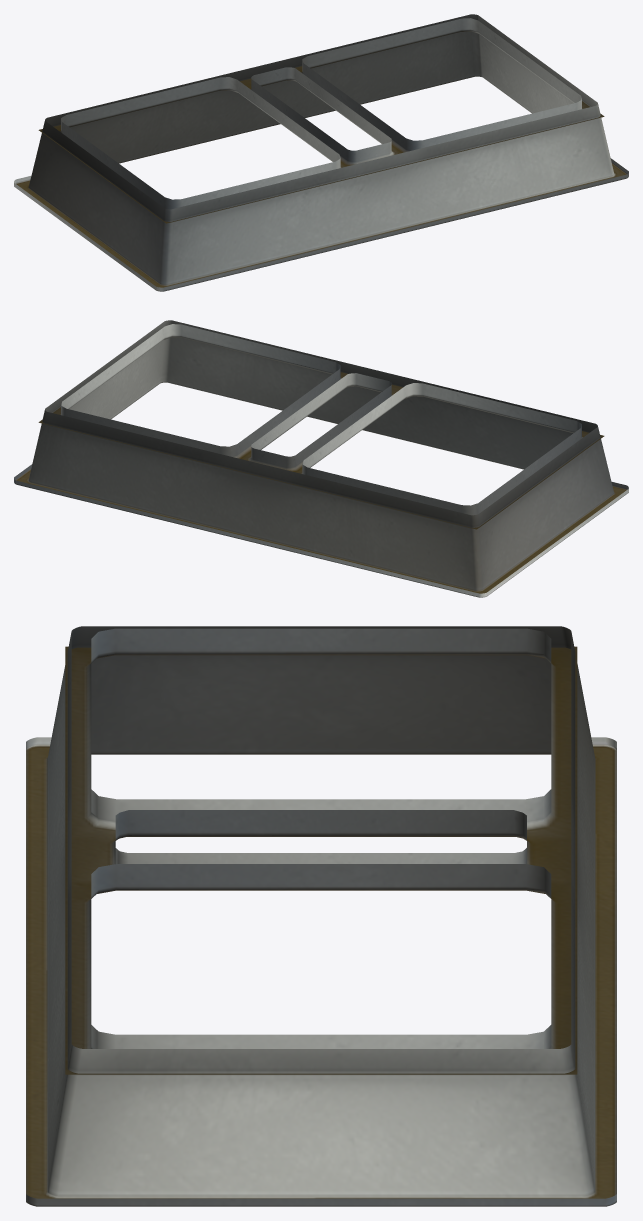
Rendered from Pico_04_R.fbx.
3 renders of one model, top to bottom at view 1: azimuth 30°, elevation 25°; view 2: azimuth 150°, elevation 25°; view 3: azimuth 270°, elevation 25°, orthographic. The views are drawn at different scales.
Parts seen in each view (by area): view 1: tianchuang; view 2: tianchuang; view 3: tianchuang.
Part boxes in pixels (bbox=[...]): tianchuang: bbox=[14, 14, 628, 291]; tianchuang: bbox=[14, 320, 628, 597]; tianchuang: bbox=[26, 626, 616, 1206].
Size of the model in its own units: 250 by 36.54 by 135.
